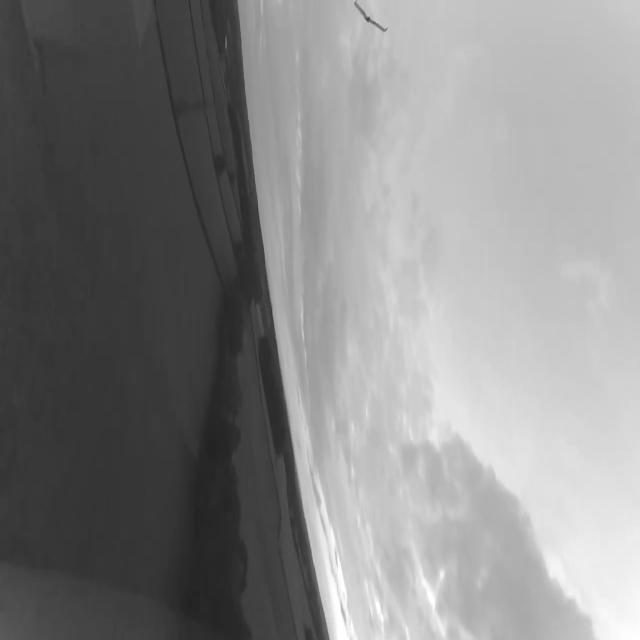iha: (348, 2, 397, 46)
